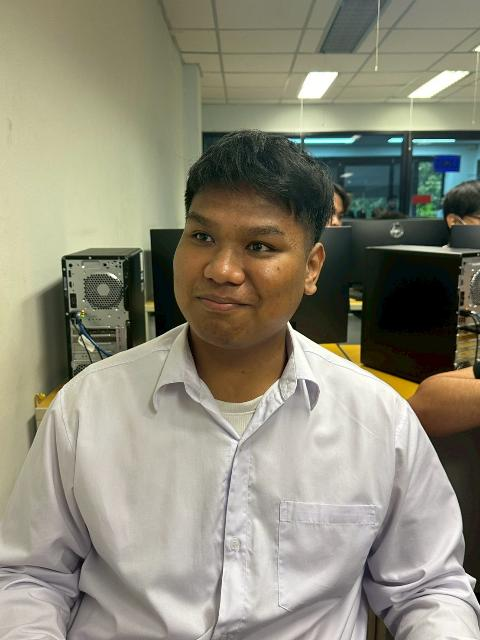fokus: (181, 143, 317, 345)
